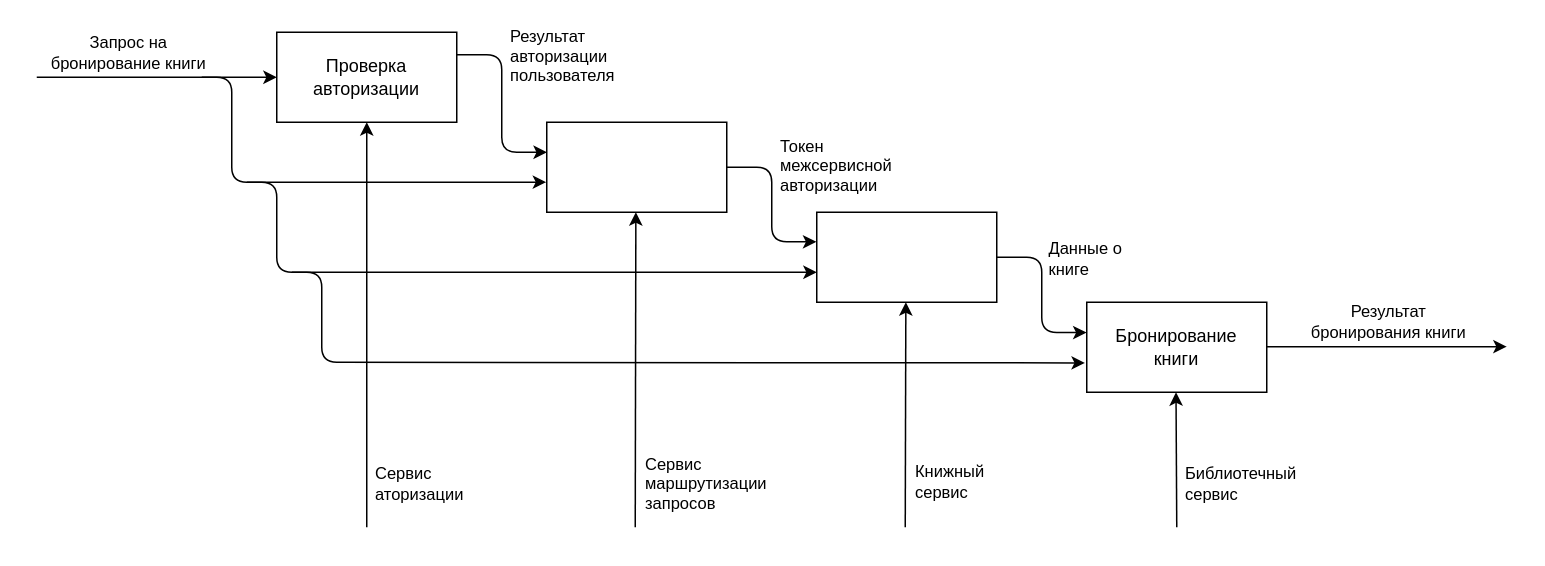
This 1545x566 diagram has some shape labels left out. Here are the shapes that lost their labels. From the top down, the box of each, then its label:
(545, 121, 727, 212): Маршрутизация запроса
(815, 211, 997, 302): Получение информации о книге
